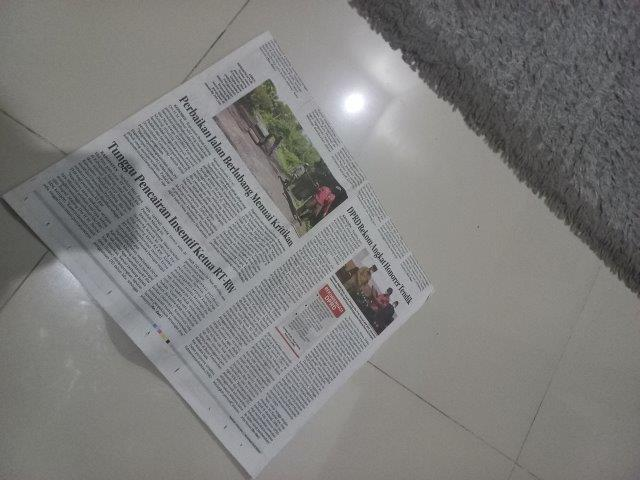kertas: (5, 32, 431, 477)
